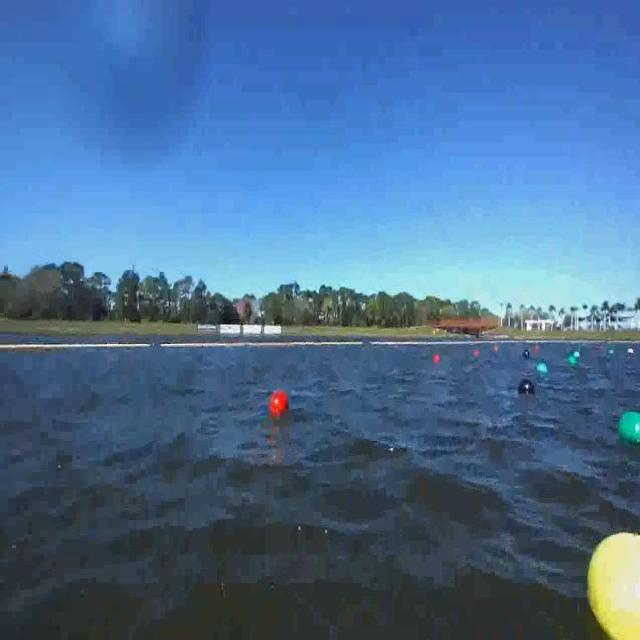black-buoy: (519, 378, 537, 397)
green-buoy: (617, 412, 640, 444), (536, 361, 547, 376)
red-buoy: (271, 392, 290, 416), (434, 354, 440, 363), (473, 350, 478, 358)
yellow-duck: (587, 379, 640, 640), (584, 524, 638, 638)
